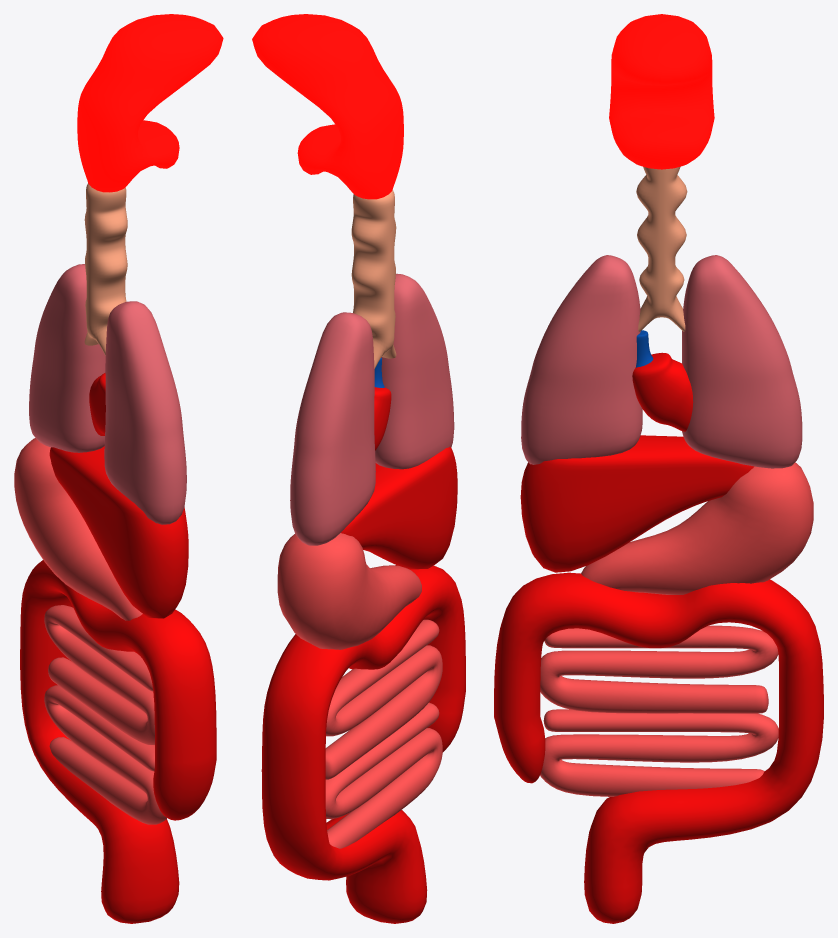
The model's file is anatomia2.glb.
3 views of the same model, side by side, from view 1: azimuth 30°, elevation 25°; view 2: azimuth 150°, elevation 25°; view 3: azimuth 270°, elevation 25° (orthographic). The views are drawn at different scales.
Parts seen in each view (by area): view 1: Cube.008, Cube, Cube.002, Cube.006, Cube.007, Cube.001, Cube.005; view 2: Cube.008, Cube, Cube.002, Cube.007, Cube.006, Cube.001, Cube.005; view 3: Cube.008, Cube, Cube.006, Cube.007, Cube.002, Cube.001, Cube.005.
Part boxes in pixels (<box>): Cube.008: <box>20,560,216,923</box>; Cube: <box>29,264,186,524</box>; Cube.002: <box>77,14,223,192</box>; Cube.006: <box>49,446,188,618</box>; Cube.007: <box>14,438,142,620</box>; Cube.001: <box>84,183,127,355</box>; Cube.005: <box>89,373,105,435</box>; Cube.008: <box>261,565,465,923</box>; Cube: <box>290,273,454,545</box>; Cube.002: <box>252,14,403,199</box>; Cube.007: <box>277,533,421,649</box>; Cube.006: <box>341,447,457,569</box>; Cube.001: <box>351,190,396,368</box>; Cube.005: <box>374,357,391,450</box>; Cube.008: <box>494,572,823,923</box>; Cube: <box>521,255,802,468</box>; Cube.006: <box>520,435,754,572</box>; Cube.007: <box>581,462,813,594</box>; Cube.002: <box>609,14,714,169</box>; Cube.001: <box>636,166,687,331</box>; Cube.005: <box>632,330,693,431</box>.
Bounding box in the file's own units: 4.75 × 26.83 × 8.77.
8 materials, 7 textured.
